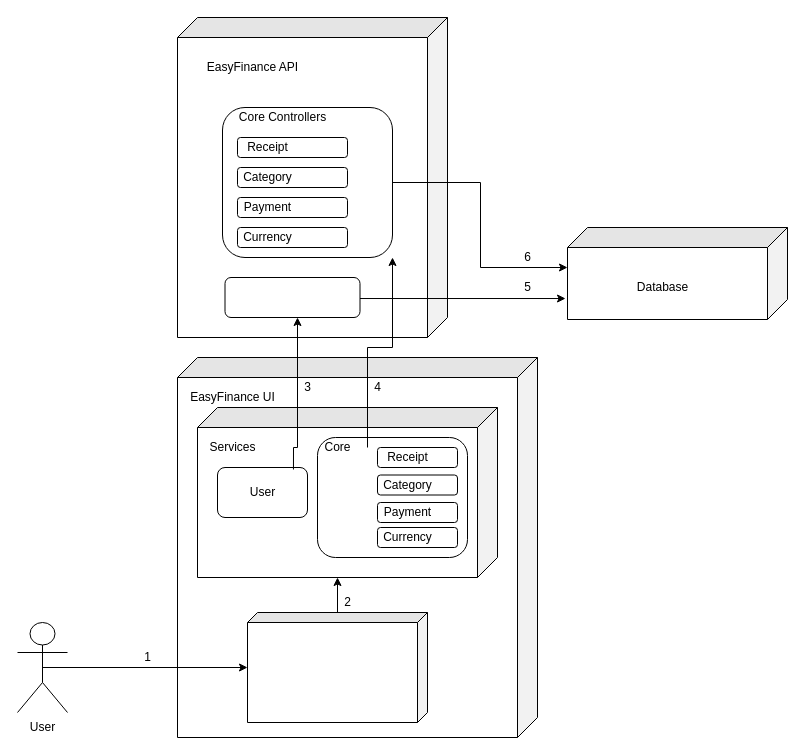
Some shapes in this 805 by 755 pixel diagram are drawn without their labels. Each missing label, with the centre of its shape:
"Components" belongs at (337,667).
"User Controller" belongs at (292,297).
